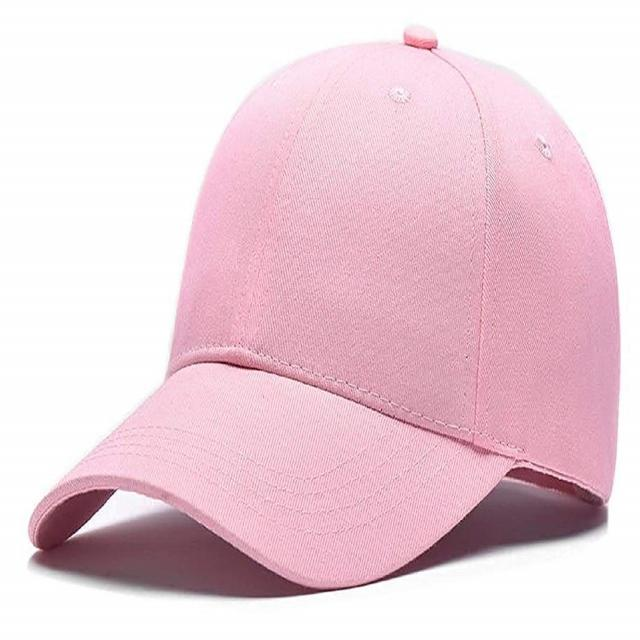mask: (30, 29, 640, 614)
